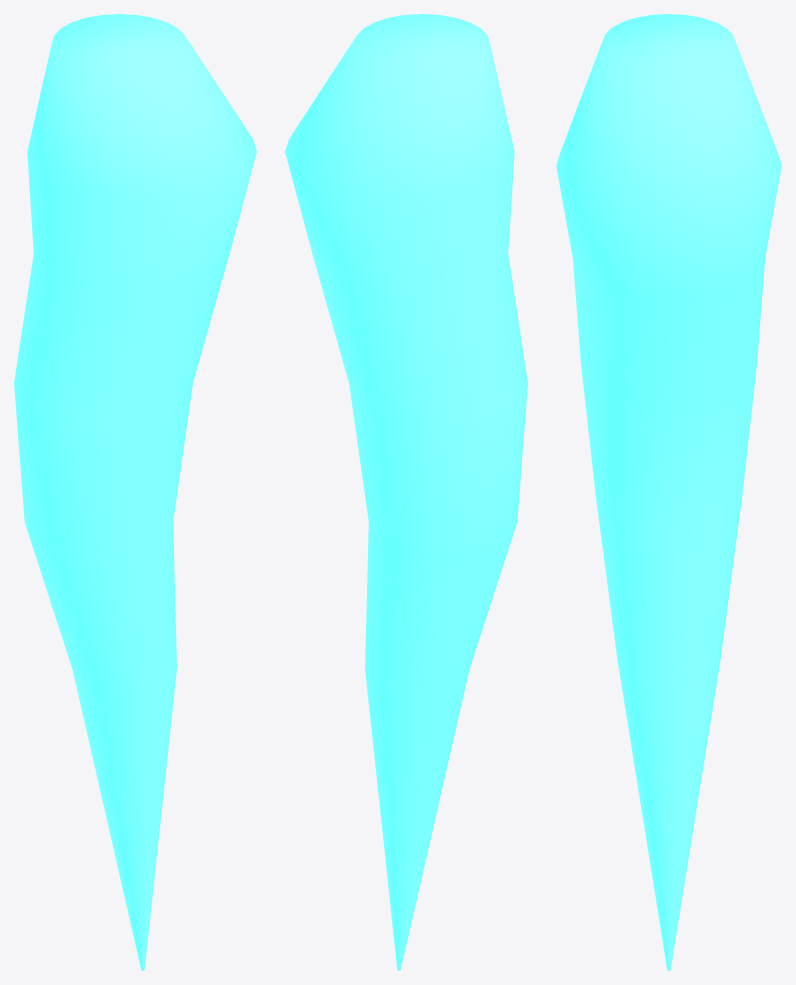
File: scout_flame.glb
3 renders of one model, left to right at view 1: azimuth 30°, elevation 25°; view 2: azimuth 150°, elevation 25°; view 3: azimuth 270°, elevation 25°, orthographic.
Visible parts, largest first — view 1: Outer Blue Flame; view 2: Outer Blue Flame; view 3: Outer Blue Flame.
Part boxes in pixels (x1,y1,x2,y2): Outer Blue Flame: (14, 14, 256, 970); Outer Blue Flame: (285, 14, 527, 970); Outer Blue Flame: (556, 14, 781, 970).
Size of the model in its own units: 0.1474 by 0.61 by 0.136.
